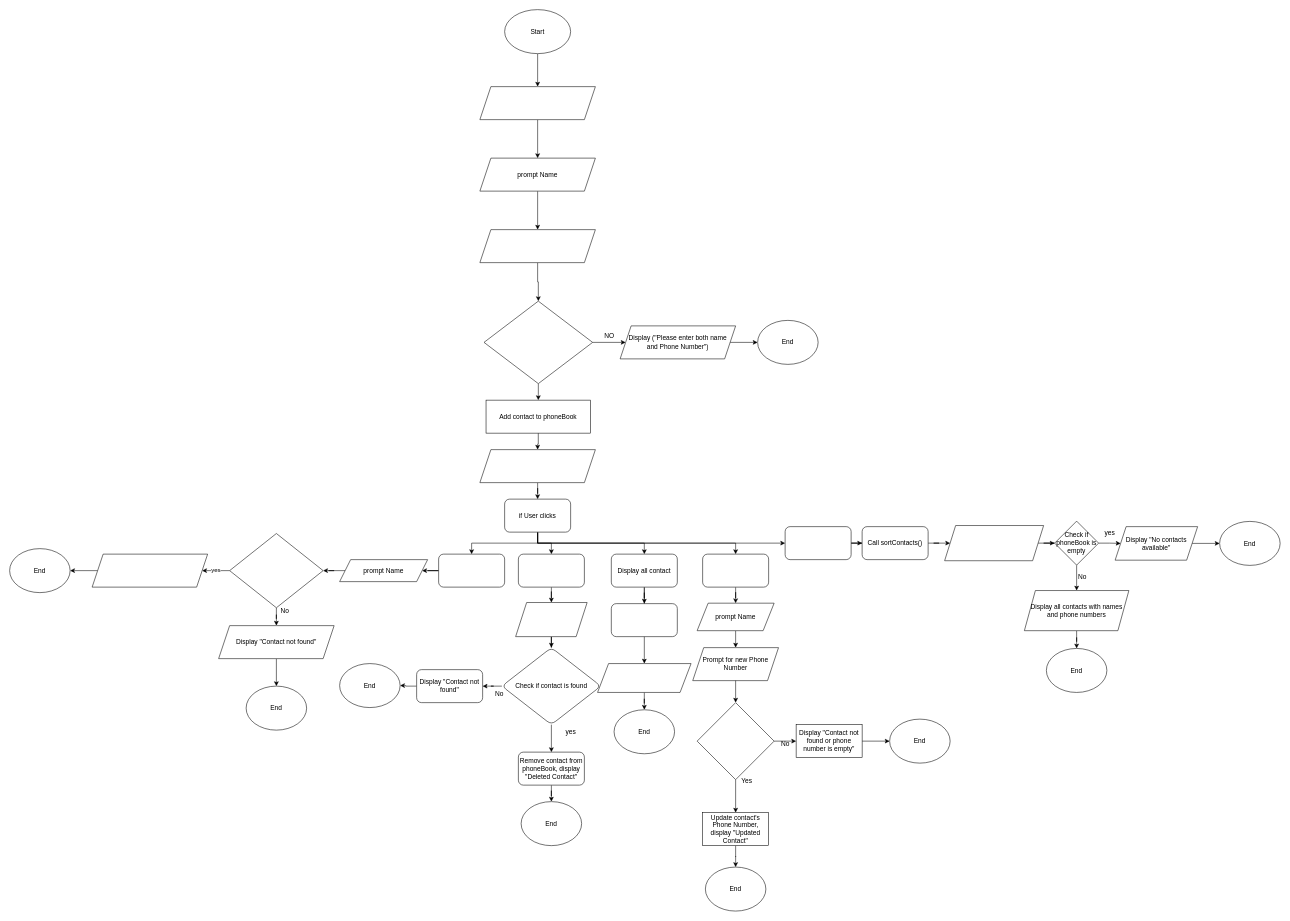
This 1290x921 diagram has some shape labels left out. Here are the shapes that lost their labels. From the top down, the box of each, then its label:
(479, 86, 595, 120): Display name, Phonenumber
(479, 229, 595, 263): prompt Phone Number
(483, 301, 593, 384): Name AND Phone number = not null
(479, 449, 595, 483): Display ("Contact Added ")
(785, 526, 851, 560): Sort contacts
(944, 525, 1044, 561): Display "Contacts sorted"
(92, 554, 208, 587): Display contact's Name and Phone Numbe
(229, 533, 323, 608): Check if contact is found in phoneBook
(438, 554, 505, 587): Search
(518, 554, 584, 587): Delete contact
(702, 554, 769, 587): Update Contact
(515, 602, 587, 637): Prompt for Name to delete
(611, 603, 677, 637): Call displayAllContacts()
(597, 663, 691, 692): Display All Contacts
(697, 702, 774, 780): Check if contact is found and new number is NOT empty
